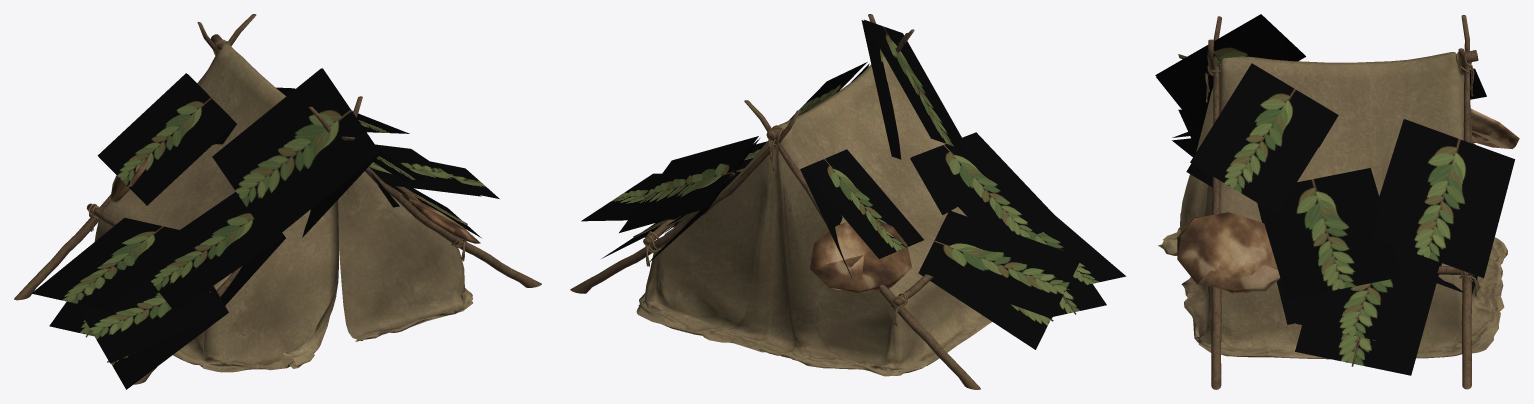
Rendered from tenda_gajk_pelli_rami.gltf.
3 renders of one model, left to right at view 1: azimuth 30°, elevation 25°; view 2: azimuth 150°, elevation 25°; view 3: azimuth 270°, elevation 25°, orthographic. The views are drawn at different scales.
Visible parts, largest first — view 1: tenda_gajk_pelli_rami; view 2: tenda_gajk_pelli_rami; view 3: tenda_gajk_pelli_rami.
Part boxes in pixels (<box>): tenda_gajk_pelli_rami: <box>14,14,541,389</box>; tenda_gajk_pelli_rami: <box>570,14,1126,389</box>; tenda_gajk_pelli_rami: <box>1155,14,1519,389</box>.
Size of the model in its own units: 4.6 by 2.43 by 2.96.
Materials: 6 (6 with a texture image).
